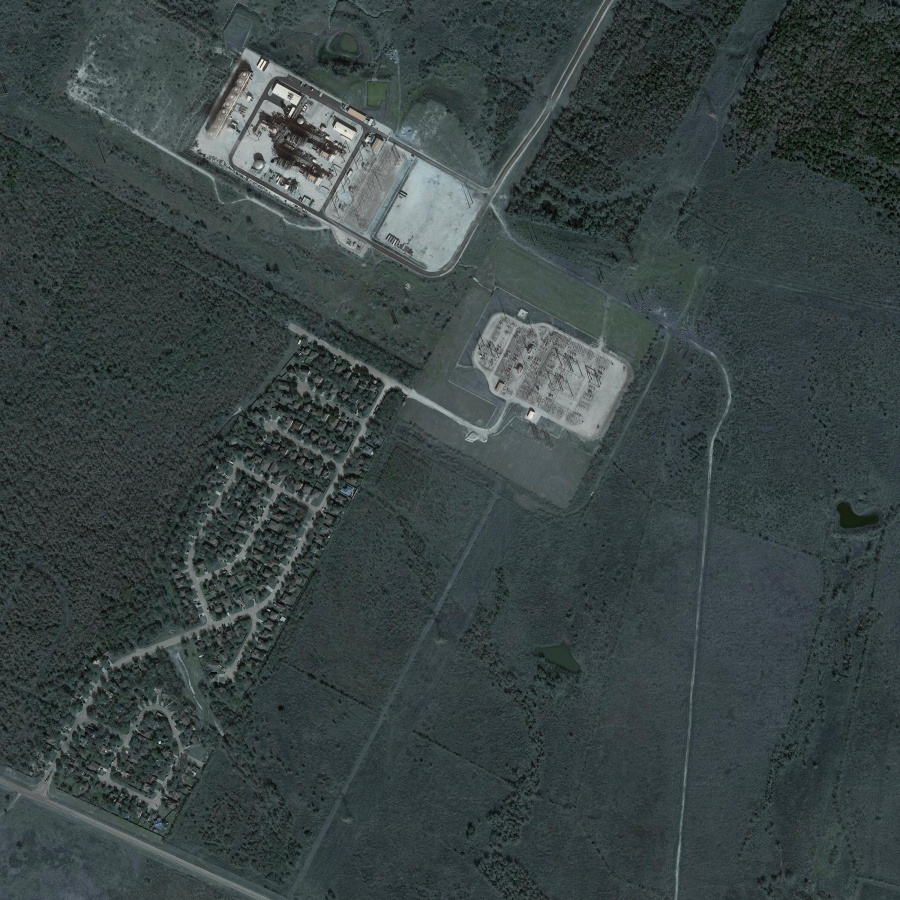PowerPlant: (196, 51, 406, 241), (470, 297, 616, 434)
